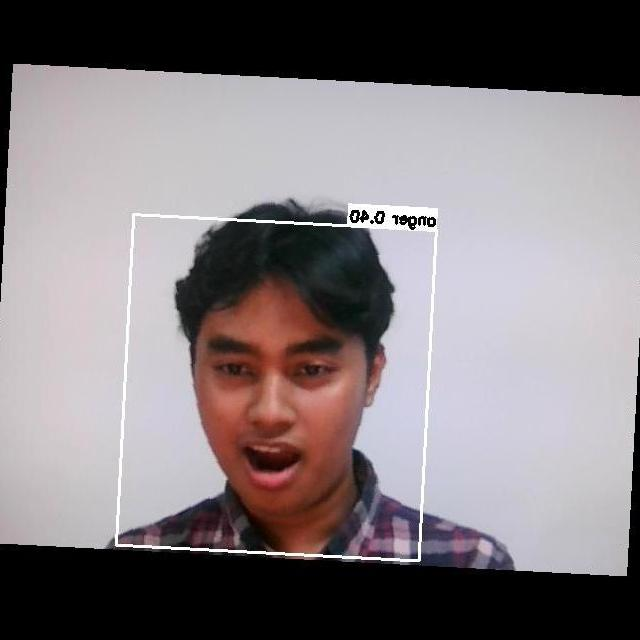Surprised: (180, 301, 373, 502)
